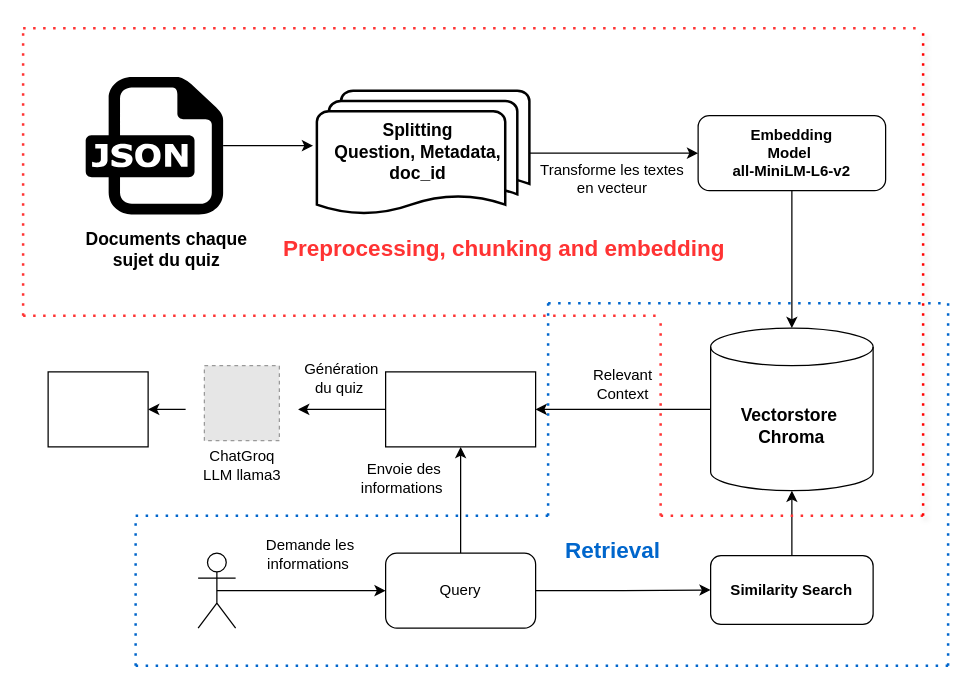
This 971x694 diagram has some shape labels left out. Grey dashed boxes stand in for pictures. The centre of each missing label's shape, as x and y in pixels:
Query stocké + Context: the point at 460,409
Réponse finale: the point at 97,409
User: the point at 216,590
